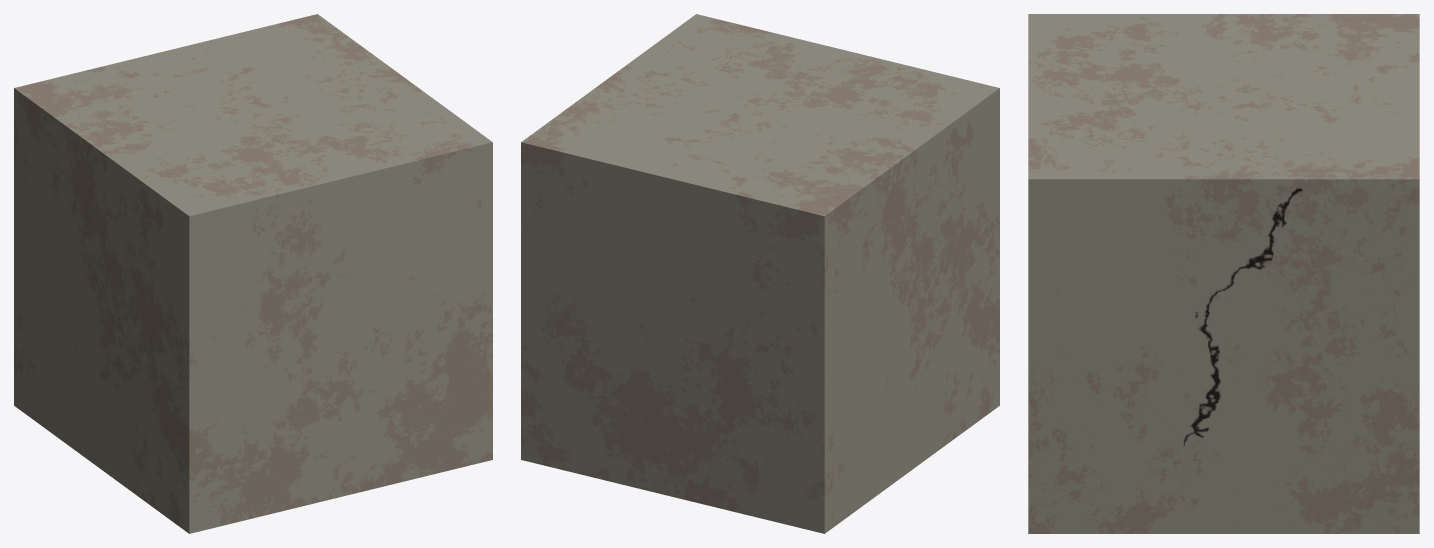
Rendered from DemoObject1 (1) - Copy.fbx.
3 renders of one model, left to right at view 1: azimuth 30°, elevation 25°; view 2: azimuth 150°, elevation 25°; view 3: azimuth 270°, elevation 25°, orthographic. The views are drawn at different scales.
Parts seen in each view (by area): view 1: Cube; view 2: Cube; view 3: Cube.
Boxes of the visible parts, <box> form: Cube: <box>14,14,492,533</box>; Cube: <box>521,14,999,533</box>; Cube: <box>1028,14,1419,533</box>.
Bounding box in the file's own units: 540 × 540 × 540.
Materials: 1 (1 with a texture image).
